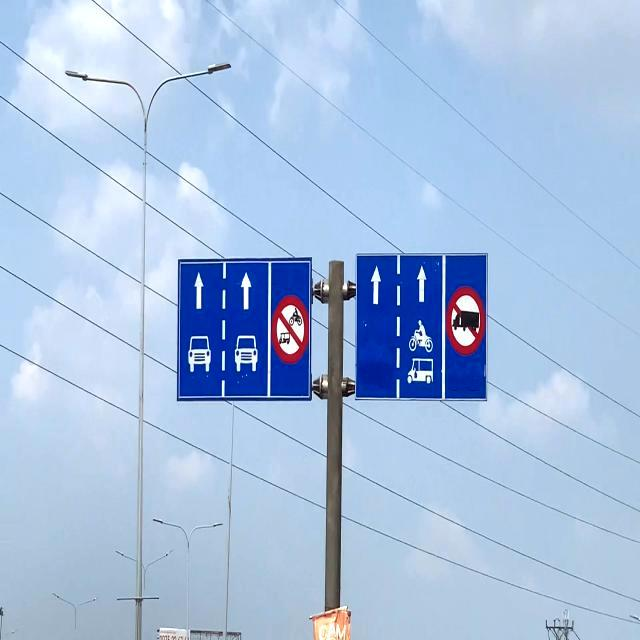Cam xe tai: (444, 284, 486, 358)
